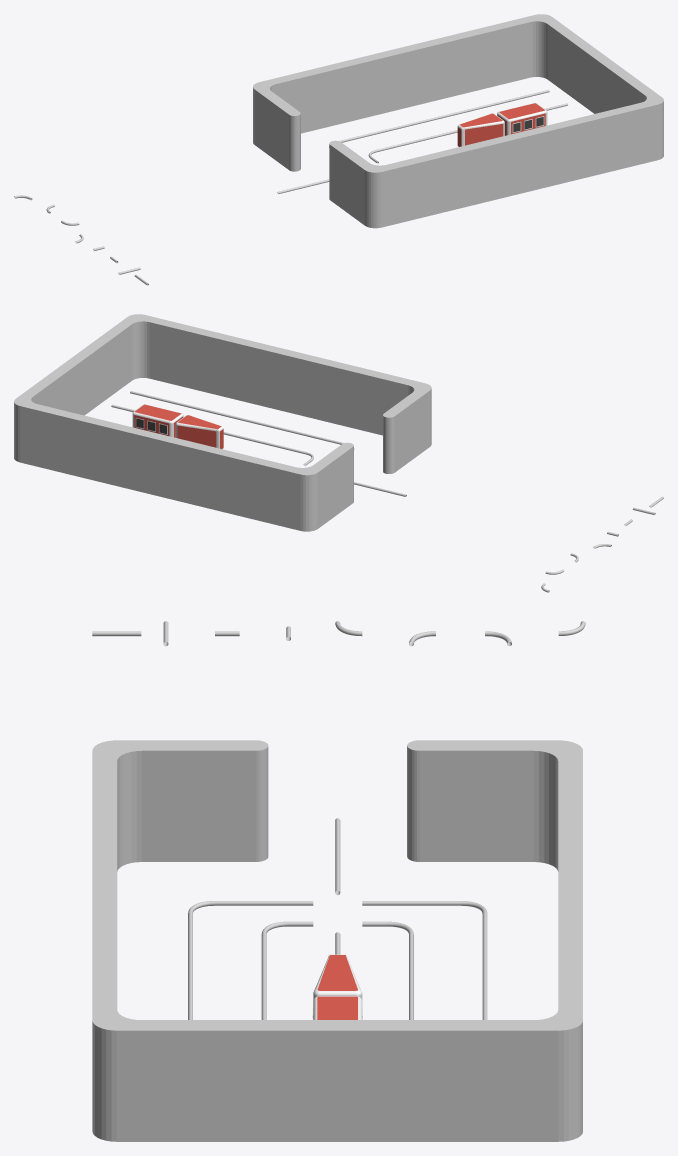
The model's file is Assets.fbx.
3 views of the same model, one above another, from view 1: azimuth 30°, elevation 25°; view 2: azimuth 150°, elevation 25°; view 3: azimuth 270°, elevation 25° (orthographic). The views are drawn at different scales.
Parts seen in each view (by area): view 1: Bahnhof, Triebzug, Wagon; view 2: Bahnhof, Triebzug, Wagon; view 3: Bahnhof, Triebzug, Wagon.
Part boxes in pixels (x1,y1,x2,y2): Bahnhof: (253, 14, 663, 228); Triebzug: (457, 113, 504, 146); Wagon: (497, 103, 547, 135); Bahnhof: (14, 314, 431, 531); Triebzug: (175, 415, 223, 449); Wagon: (132, 404, 183, 437); Bahnhof: (92, 740, 582, 1141); Triebzug: (313, 954, 362, 999); Wagon: (312, 996, 362, 1019).
Size of the model in its own units: 5000 by 510 by 2010.
